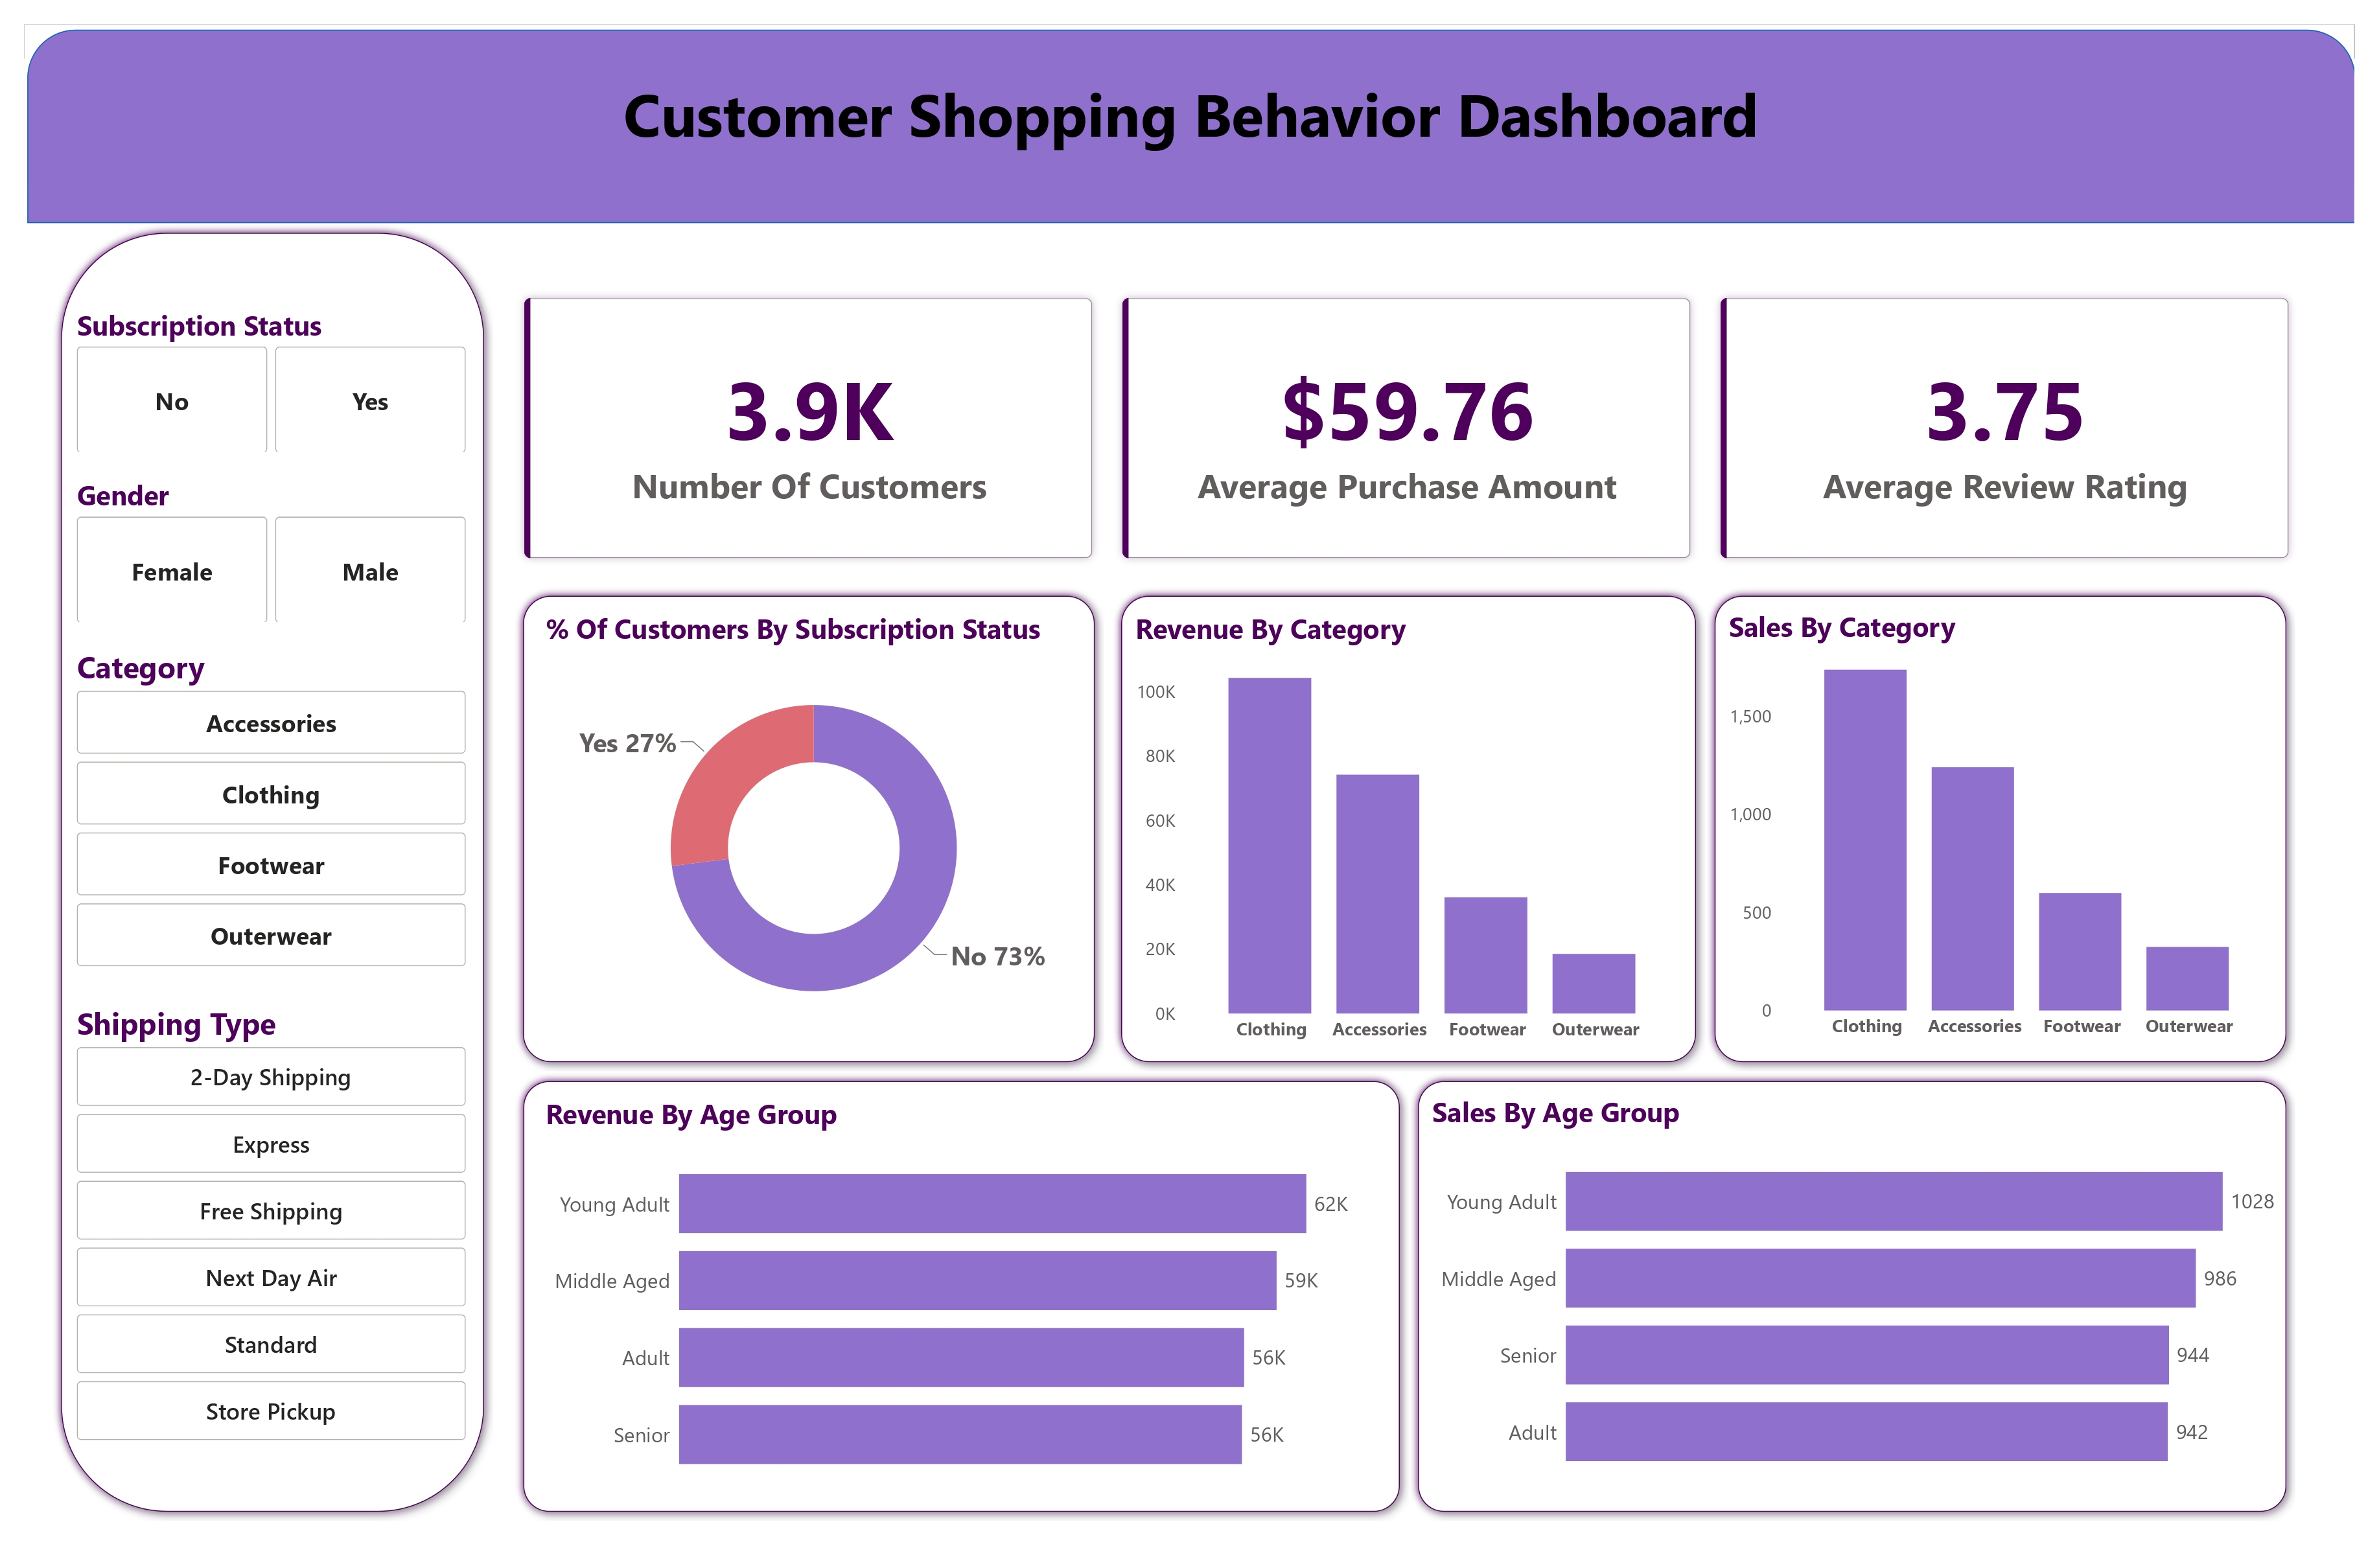

The page's visual inventory and layout, read from the dashboard file:
{"tool":"powerbi","page":{"name":"Page 1","canvas":[2302,1500],"ordinal":0},"visuals":[{"type":"cardVisual","fields":{"Data":["public customers_details.Number Of Customers","public customers_details.Average Purchase Amount","public customers_details.Average Review Rating"]},"box":[466.2,242,1801.1,313.4],"z":0},{"type":"shape","box":[2.5,5.1,2300.5,191.1],"z":1000},{"type":"textbox","box":[2.5,43.3,2300.5,152.9],"z":2000},{"type":"shape","box":[484,555.4,583.4,478.9],"z":3000},{"type":"donutChart","title":"% Of Customers By Subscription Status","fields":{"Category":["public customers_details.subscription_status"],"Y":["CountNonNull(public customers_details.customer_id)"]},"box":[509.5,578.3,540.1,435.6],"z":4000},{"type":"shape","box":[1075.1,555.4,585.9,478.9],"z":5000},{"type":"shape","box":[1661,555.4,583.4,478.9],"z":6000},{"type":"clusteredColumnChart","title":"Revenue By Category","fields":{"Y":["Sum(public customers_details.purchase_amount)"],"Category":["public customers_details.category"]},"box":[1092.9,578.3,550.3,435.6],"z":7000},{"type":"clusteredColumnChart","title":"Sales By Category","fields":{"Category":["public customers_details.category"],"Y":["CountNonNull(public customers_details.customer_id)"]},"box":[1678.8,575.8,550.3,435.6],"z":8000},{"type":"shape","box":[27,196.2,435.6,1281.4],"z":9000},{"type":"advancedSlicerVisual","fields":{"Values":["public customers_details.subscription_status"]},"box":[47.4,277.7,394.9,150.3],"z":10000},{"type":"advancedSlicerVisual","fields":{"Values":["public customers_details.gender"]},"box":[47.4,445.8,394.9,150.3],"z":11000},{"type":"advancedSlicerVisual","fields":{"Values":["public customers_details.category"]},"box":[47.4,614,394.9,323.5],"z":12000},{"type":"advancedSlicerVisual","fields":{"Values":["public customers_details.shipping_type"]},"box":[47.4,965.5,394.9,438.2],"z":13000},{"type":"shape","box":[484,1034.3,884,443.3],"z":14000},{"type":"clusteredBarChart","title":"Revenue By Age Group","fields":{"Y":["Sum(public customers_details.purchase_amount)"],"Category":["public customers_details.age_group"]},"box":[509.5,1057.2,840.7,402.5],"z":15000},{"type":"shape","box":[1368,1034.3,876.4,443.3],"z":16000},{"type":"clusteredBarChart","title":"Sales By Age Group","fields":{"Category":["public customers_details.age_group"],"Y":["CountNonNull(public customers_details.customer_id)"]},"box":[1385.9,1054.7,843.2,402.5],"z":17000}]}

Visuals, with their boxes in screenshot pixels (x1, y1, x2, y2):
cardVisual - public customers_details.Number Of Customers x public customers_details.Average Purchase Amount: (left=487, top=265, right=2323, bottom=584)
shape: (left=15, top=24, right=2360, bottom=218)
textbox: (left=15, top=63, right=2360, bottom=218)
shape: (left=505, top=584, right=1100, bottom=1072)
"% Of Customers By Subscription Status" donutChart: (left=531, top=608, right=1082, bottom=1052)
shape: (left=1108, top=584, right=1705, bottom=1072)
shape: (left=1705, top=584, right=2300, bottom=1072)
"Revenue By Category" clusteredColumnChart: (left=1126, top=608, right=1687, bottom=1052)
"Sales By Category" clusteredColumnChart: (left=1723, top=605, right=2284, bottom=1049)
shape: (left=40, top=218, right=484, bottom=1524)
advancedSlicerVisual - public customers_details.subscription_status: (left=61, top=301, right=463, bottom=455)
advancedSlicerVisual - public customers_details.gender: (left=61, top=473, right=463, bottom=626)
advancedSlicerVisual - public customers_details.category: (left=61, top=644, right=463, bottom=974)
advancedSlicerVisual - public customers_details.shipping_type: (left=61, top=1002, right=463, bottom=1449)
shape: (left=505, top=1072, right=1407, bottom=1524)
"Revenue By Age Group" clusteredBarChart: (left=531, top=1096, right=1389, bottom=1506)
shape: (left=1407, top=1072, right=2300, bottom=1524)
"Sales By Age Group" clusteredBarChart: (left=1425, top=1093, right=2284, bottom=1503)
